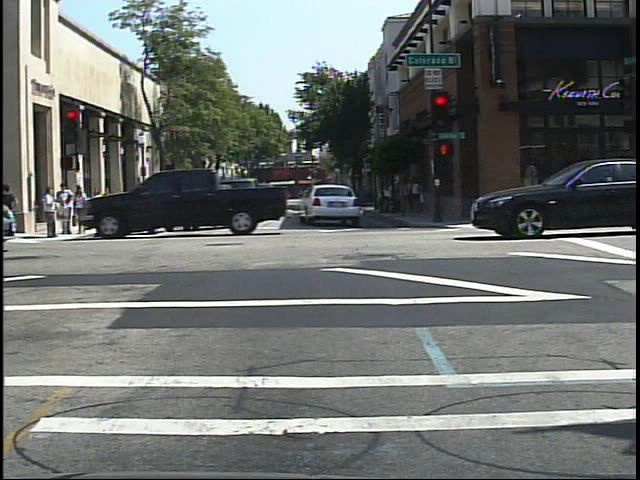person: (144, 180, 162, 220), (146, 180, 162, 215), (94, 187, 101, 227)
